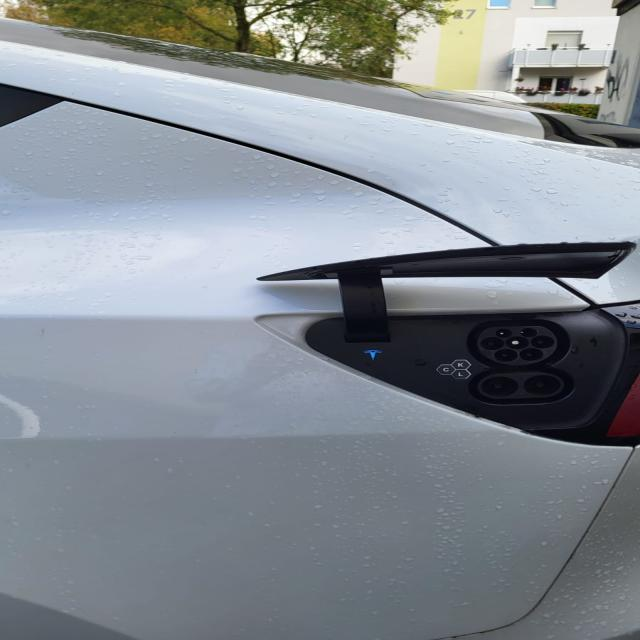inlet: (478, 326, 557, 365)
inlet-above-left: (496, 329, 512, 338)
inlet-above-right: (520, 328, 537, 337)
inlet-below-left: (494, 349, 517, 362)
inlet-below-right: (520, 348, 543, 361)
inlet-circle: (506, 336, 529, 349)
inlet-circle-left: (481, 337, 504, 350)
inlet-circle-right: (531, 335, 554, 349)
inlet-minus: (523, 375, 560, 396)
inlet-plus: (482, 377, 519, 397)
